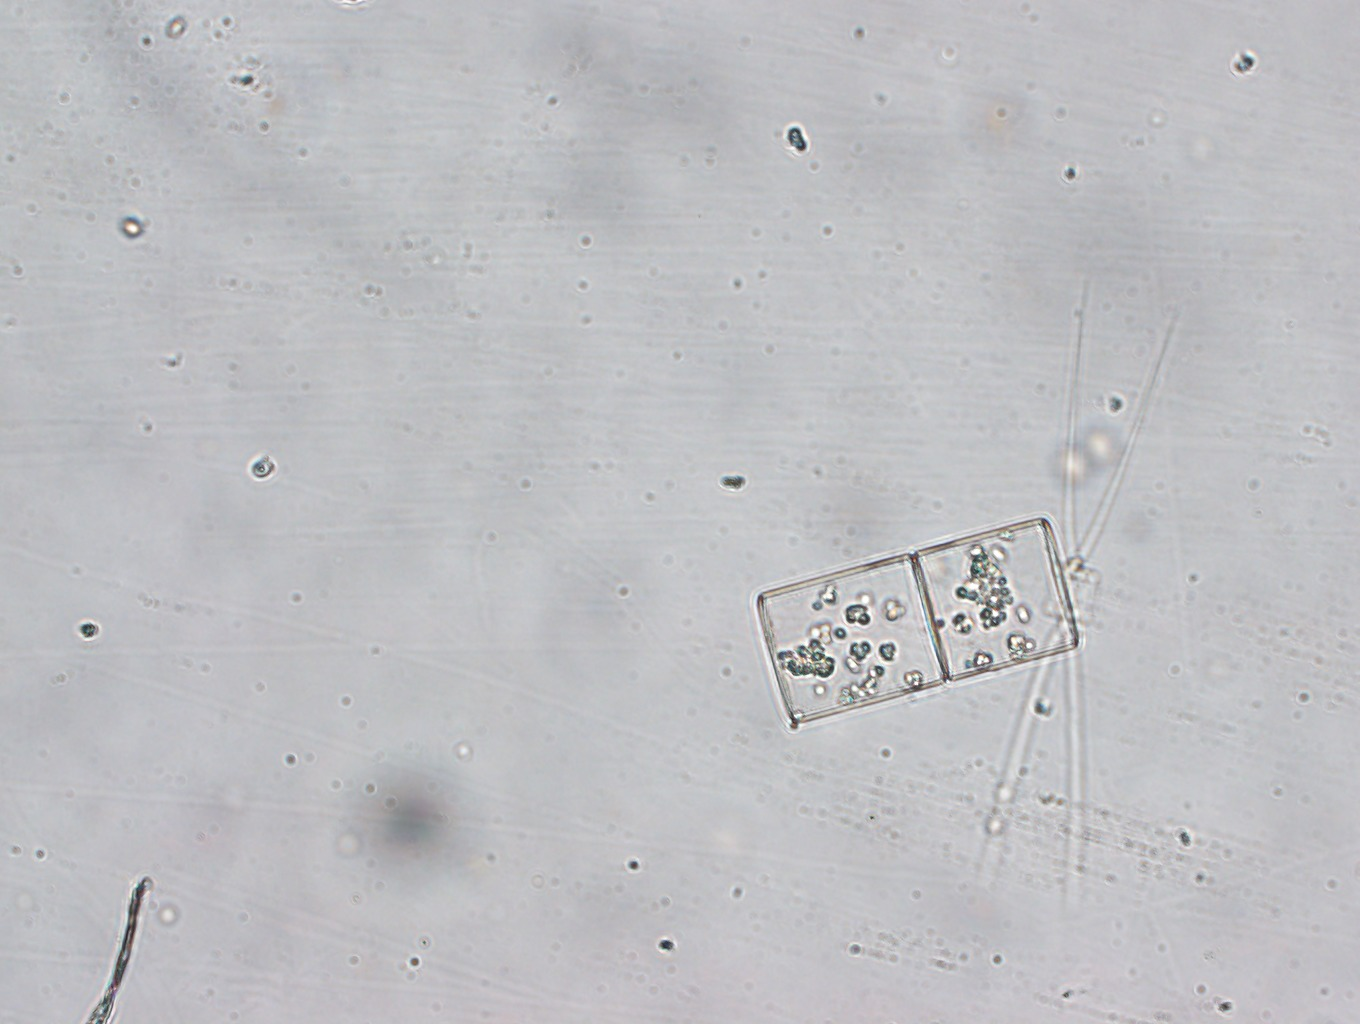chaetoceros: (968, 282, 1177, 885)
guinardia flaccida: (755, 520, 1079, 728)
